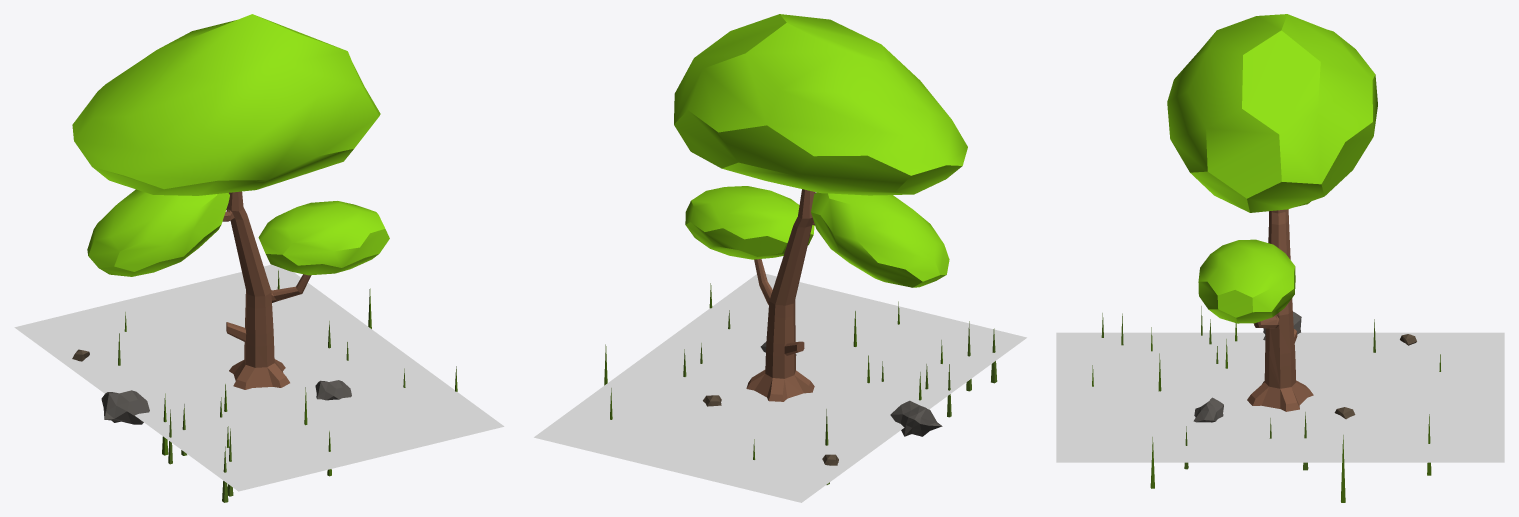
The model's file is Tree Low Poly.fbx.
3 renders of one model, left to right at view 1: azimuth 30°, elevation 25°; view 2: azimuth 150°, elevation 25°; view 3: azimuth 270°, elevation 25°, orthographic.
Visible parts, largest first — view 1: Plane_1, Platonic, Platonic_1, Platonic_2, Cylinder, Platonic_3_7, Platonic_3_15; view 2: Plane_1, Platonic, Platonic_1, Platonic_2, Cylinder, Platonic_3_7; view 3: Plane_1, Platonic, Platonic_2, Cylinder, Platonic_3_15.
Boxes of the visible parts, x1,y1,x2,y2 form: Plane_1: (14,264,504,491); Platonic: (72,14,380,195); Platonic_1: (87,189,229,276); Platonic_2: (258,201,389,275); Cylinder: (222,191,311,389); Platonic_3_7: (101,390,149,424); Platonic_3_15: (315,380,351,400); Plane_1: (534,274,1026,502); Platonic: (674,14,967,195); Platonic_1: (811,192,949,287); Platonic_2: (685,186,814,259); Cylinder: (746,189,815,401); Platonic_3_7: (890,400,942,436); Plane_1: (1056,332,1504,462); Platonic: (1167,14,1377,212); Platonic_2: (1198,239,1295,323); Cylinder: (1247,209,1313,411); Platonic_3_15: (1193,397,1223,422).
Bounding box in the file's own units: 1657 × 2000 × 2018.
